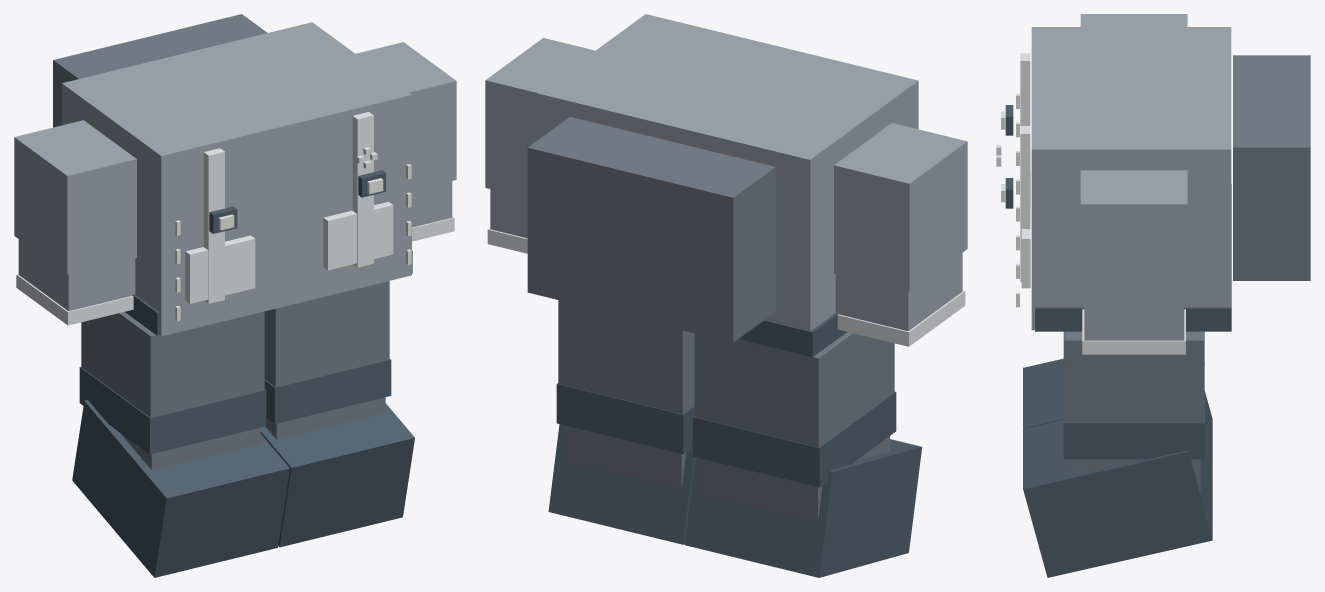
Rendered from explorer-slate.glb.
The picture shows the model from 3 angles, left to right: view 1: azimuth 30°, elevation 25°; view 2: azimuth 150°, elevation 25°; view 3: azimuth 270°, elevation 25°; orthographic projection. The views are drawn at different scales.
Parts seen in each view (by area): view 1: jacket, shoe-Right, upper-sleeve-Right, trouser-Right, shoe-Left, trouser-Left, upper-sleeve-Left, boot-cuff-Right, backpack, boot-cuff-Left, lower-sleeve-Right, pocket--1 (+9 smaller); view 2: jacket, backpack, upper-sleeve-Right, shoe-Right, trouser-Right, trouser-Left, boot-cuff-Right, upper-sleeve-Left, shoe-Left, boot-cuff-Left, lower-sleeve-Right, lower-trouser-Right (+5 smaller); view 3: jacket, shoe-Left, backpack, upper-sleeve-Left, trouser-Left, boot-cuff-Left, lower-sleeve-Left, shoe-Right, trail-belt, cuff-Left, upper-sleeve-Right, backpack-strap.001 (+3 smaller).
Boxes of the visible parts, x1=… form: jacket: x1=62, y1=22, x2=411, y2=336; shoe-Right: x1=72, y1=400, x2=289, y2=577; upper-sleeve-Right: x1=14, y1=120, x2=136, y2=274; trouser-Right: x1=81, y1=311, x2=264, y2=417; shoe-Left: x1=260, y1=403, x2=414, y2=547; trouser-Left: x1=264, y1=281, x2=389, y2=387; upper-sleeve-Left: x1=356, y1=42, x2=456, y2=190; boot-cuff-Right: x1=79, y1=367, x2=266, y2=454; backpack: x1=53, y1=14, x2=267, y2=127; boot-cuff-Left: x1=264, y1=359, x2=391, y2=423; lower-sleeve-Right: x1=18, y1=239, x2=135, y2=311; pocket--1: x1=185, y1=235, x2=255, y2=303; jacket: x1=537, y1=14, x2=918, y2=331; backpack: x1=527, y1=117, x2=775, y2=342; upper-sleeve-Right: x1=834, y1=123, x2=967, y2=291; shoe-Right: x1=684, y1=439, x2=921, y2=577; trouser-Right: x1=694, y1=332, x2=894, y2=447; trouser-Left: x1=558, y1=300, x2=694, y2=414; boot-cuff-Right: x1=693, y1=391, x2=896, y2=487; upper-sleeve-Left: x1=485, y1=38, x2=594, y2=197; shoe-Left: x1=548, y1=424, x2=695, y2=544; boot-cuff-Left: x1=556, y1=383, x2=694, y2=453; lower-sleeve-Right: x1=835, y1=253, x2=962, y2=331; lower-trouser-Right: x1=699, y1=436, x2=889, y2=523; jacket: x1=1031, y1=27, x2=1231, y2=330; shoe-Left: x1=1023, y1=420, x2=1212, y2=577; backpack: x1=1233, y1=55, x2=1310, y2=280; upper-sleeve-Left: x1=1080, y1=170, x2=1187, y2=303; trouser-Left: x1=1064, y1=331, x2=1203, y2=422; boot-cuff-Left: x1=1063, y1=366, x2=1204, y2=459; lower-sleeve-Left: x1=1084, y1=303, x2=1184, y2=340; shoe-Right: x1=1023, y1=358, x2=1212, y2=478; trail-belt: x1=1035, y1=184, x2=1231, y2=331; cuff-Left: x1=1082, y1=309, x2=1185, y2=354; upper-sleeve-Right: x1=1080, y1=14, x2=1187, y2=26; backpack-strap.001: x1=1020, y1=126, x2=1030, y2=282.
Bounding box in the file's own units: 1.07 × 1.13 × 0.748.
